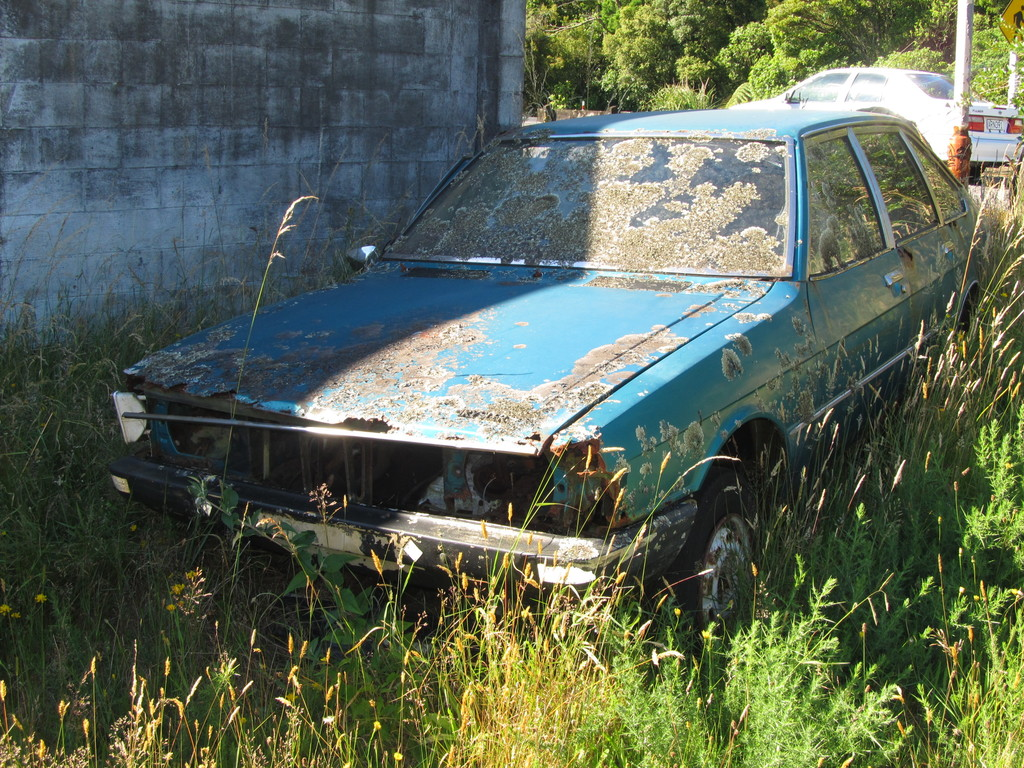Car: (135, 115, 994, 632), (727, 40, 1023, 183)
